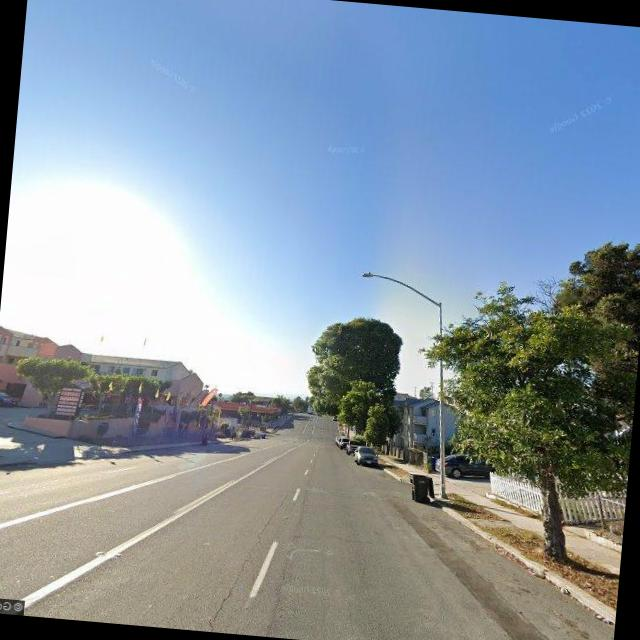crack: (200, 492, 286, 634)
